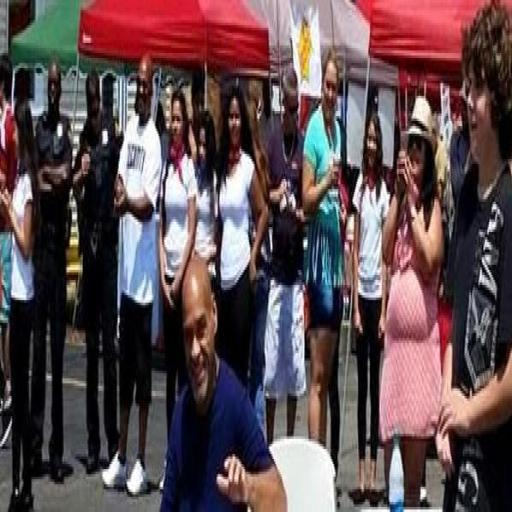person: (436, 3, 511, 511), (161, 258, 285, 511), (380, 96, 443, 506), (102, 56, 160, 496), (73, 71, 119, 474), (31, 61, 71, 481), (0, 101, 39, 511), (216, 84, 267, 385), (264, 69, 305, 443), (303, 51, 342, 443), (353, 114, 389, 506), (158, 89, 196, 431), (249, 230, 270, 428), (195, 111, 217, 287), (0, 217, 11, 448)
